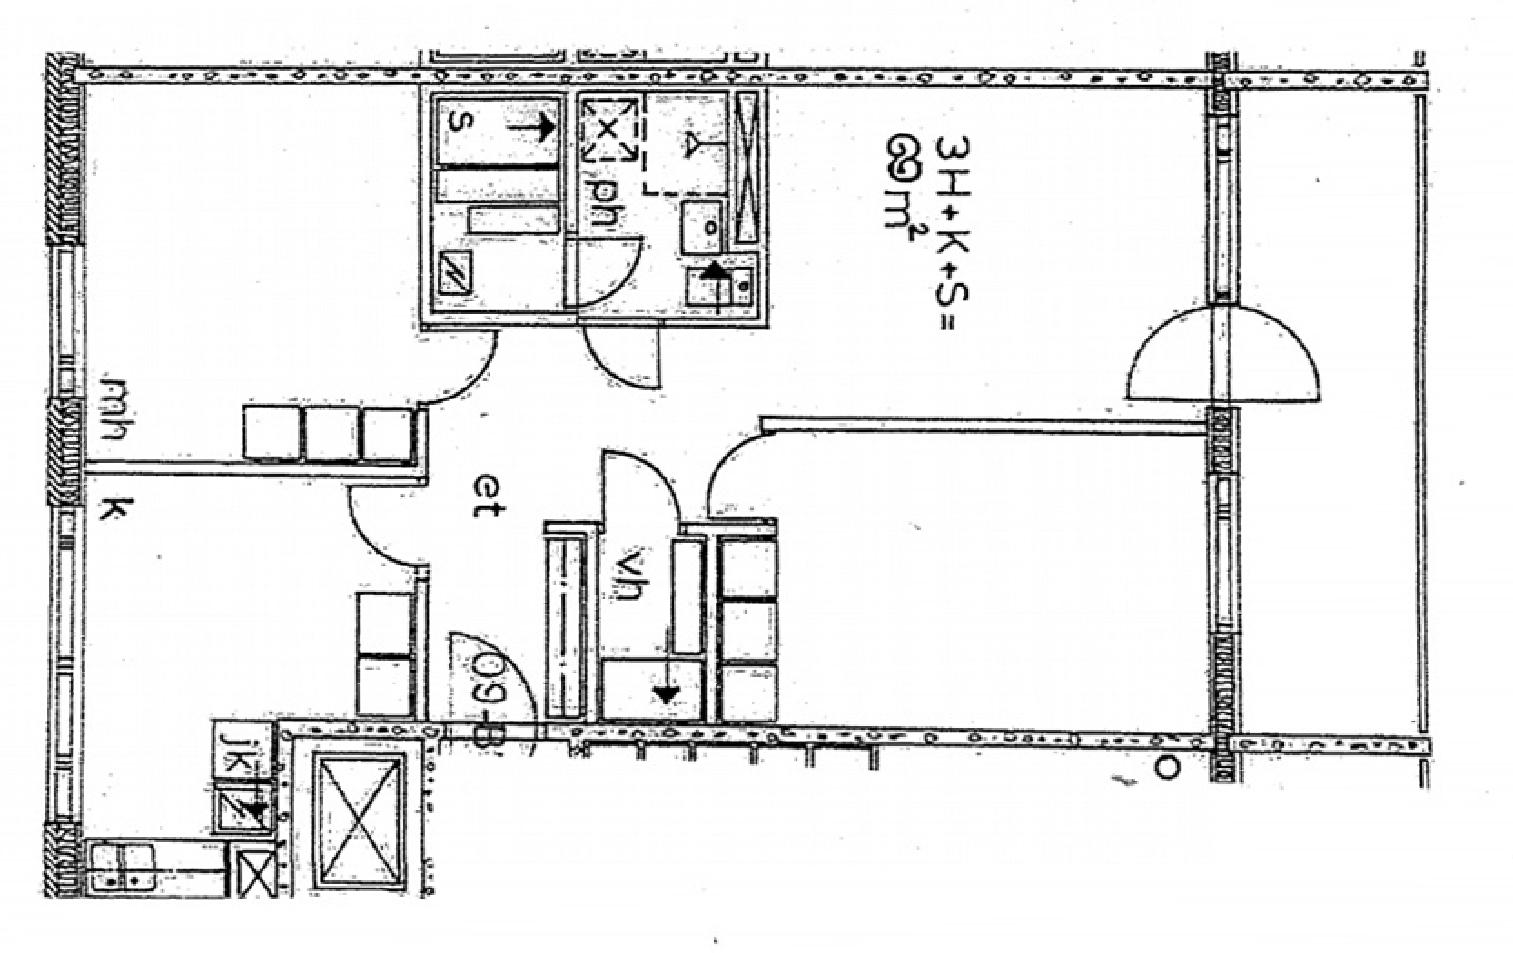door: (1130, 302, 1322, 410), (445, 626, 548, 756), (340, 479, 438, 569), (599, 449, 691, 530), (590, 313, 674, 392), (708, 431, 781, 519), (418, 336, 503, 406), (565, 238, 651, 301)
window: (48, 504, 80, 822), (1204, 110, 1246, 306), (42, 244, 88, 397), (1204, 473, 1243, 632)
zone: (426, 82, 1208, 733), (89, 473, 418, 900), (85, 80, 421, 468), (1241, 88, 1417, 735), (432, 85, 762, 323)
